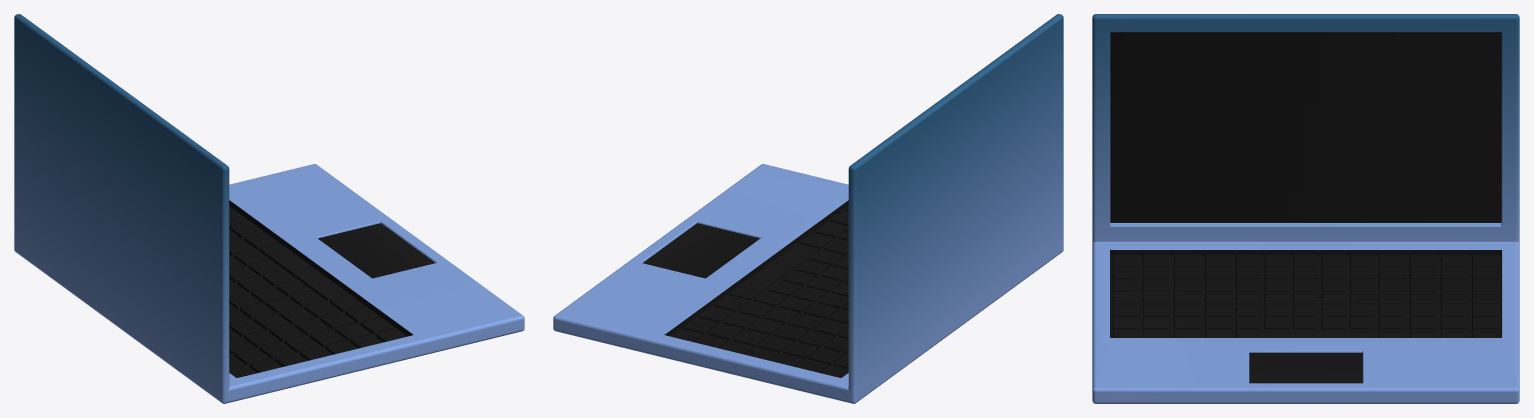
Rendered from HH_Laptop.fbx.
3 renders of one model, left to right at view 1: azimuth 30°, elevation 25°; view 2: azimuth 150°, elevation 25°; view 3: azimuth 270°, elevation 25°, orthographic.
Visible parts, largest first — view 1: Laptop; view 2: Laptop; view 3: Laptop.
Boxes of the visible parts, x1=… form: Laptop: x1=14, y1=14, x2=524, y2=403; Laptop: x1=553, y1=14, x2=1063, y2=403; Laptop: x1=1092, y1=14, x2=1519, y2=403.
Size of the model in its own units: 50 by 37.5 by 60.
Materials: 1 (1 with a texture image).
